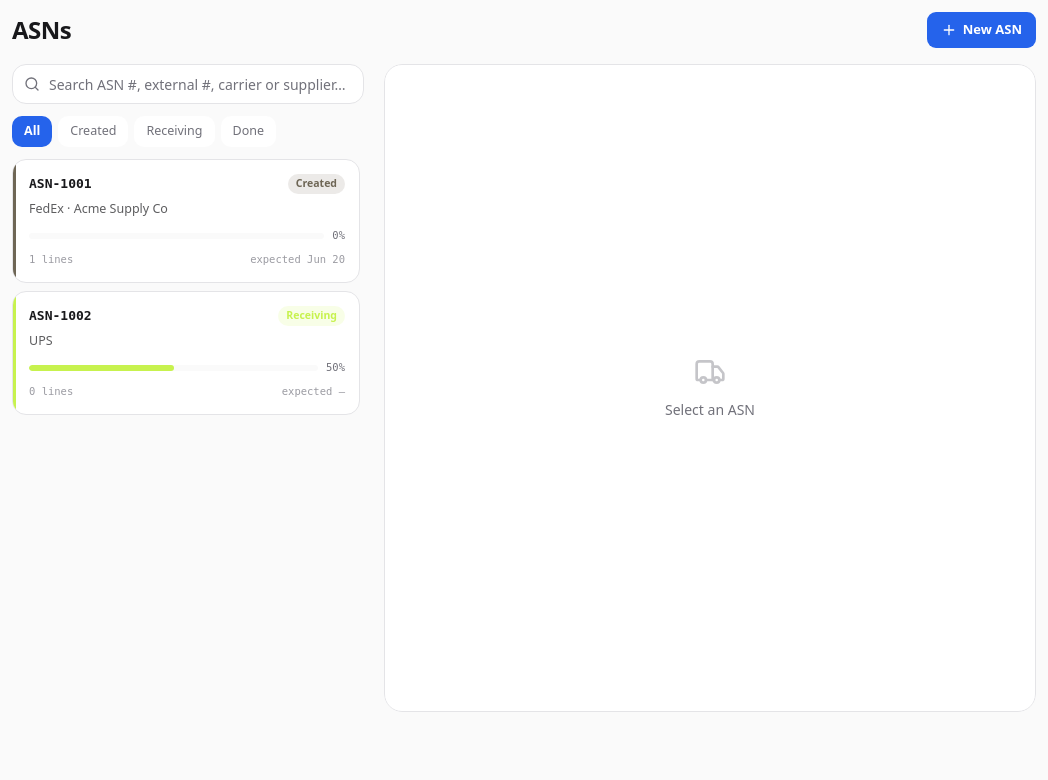
Scenario: AsnsPage › filter chips partition by status
Click the button "Receiving": coordinates (174, 131) [134,116,214,147]
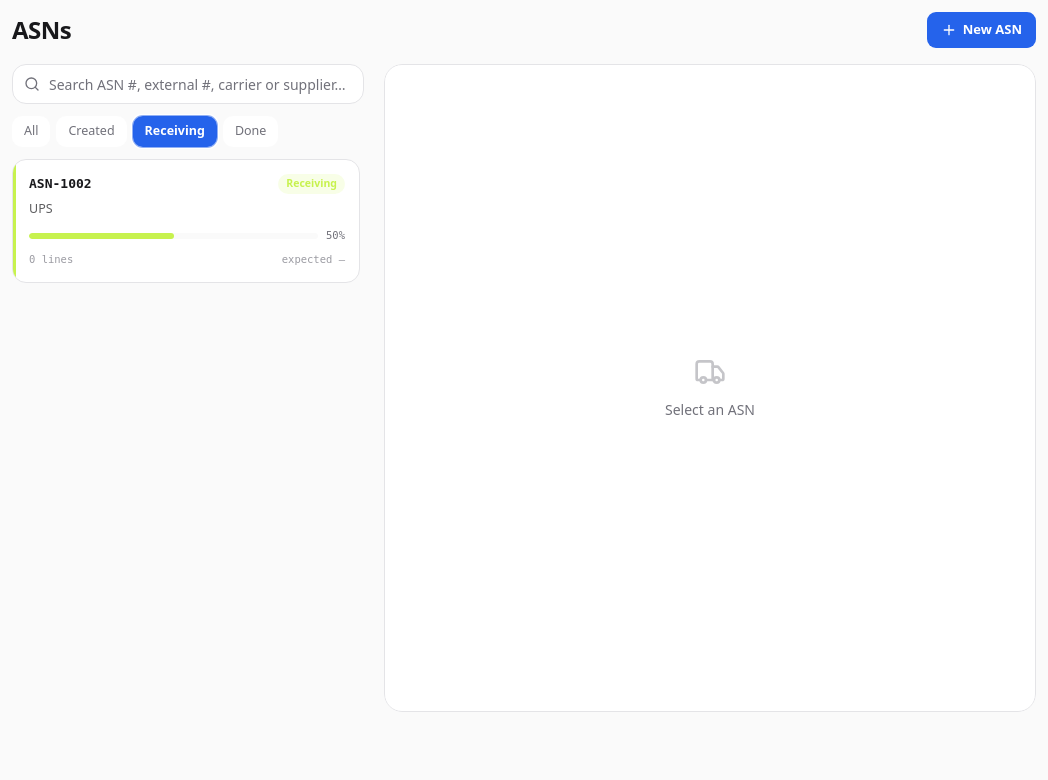
Expected: the text "ASN-1002" is shown, [29,174,92,193]
Result: the button "ASN-1001" is gone
